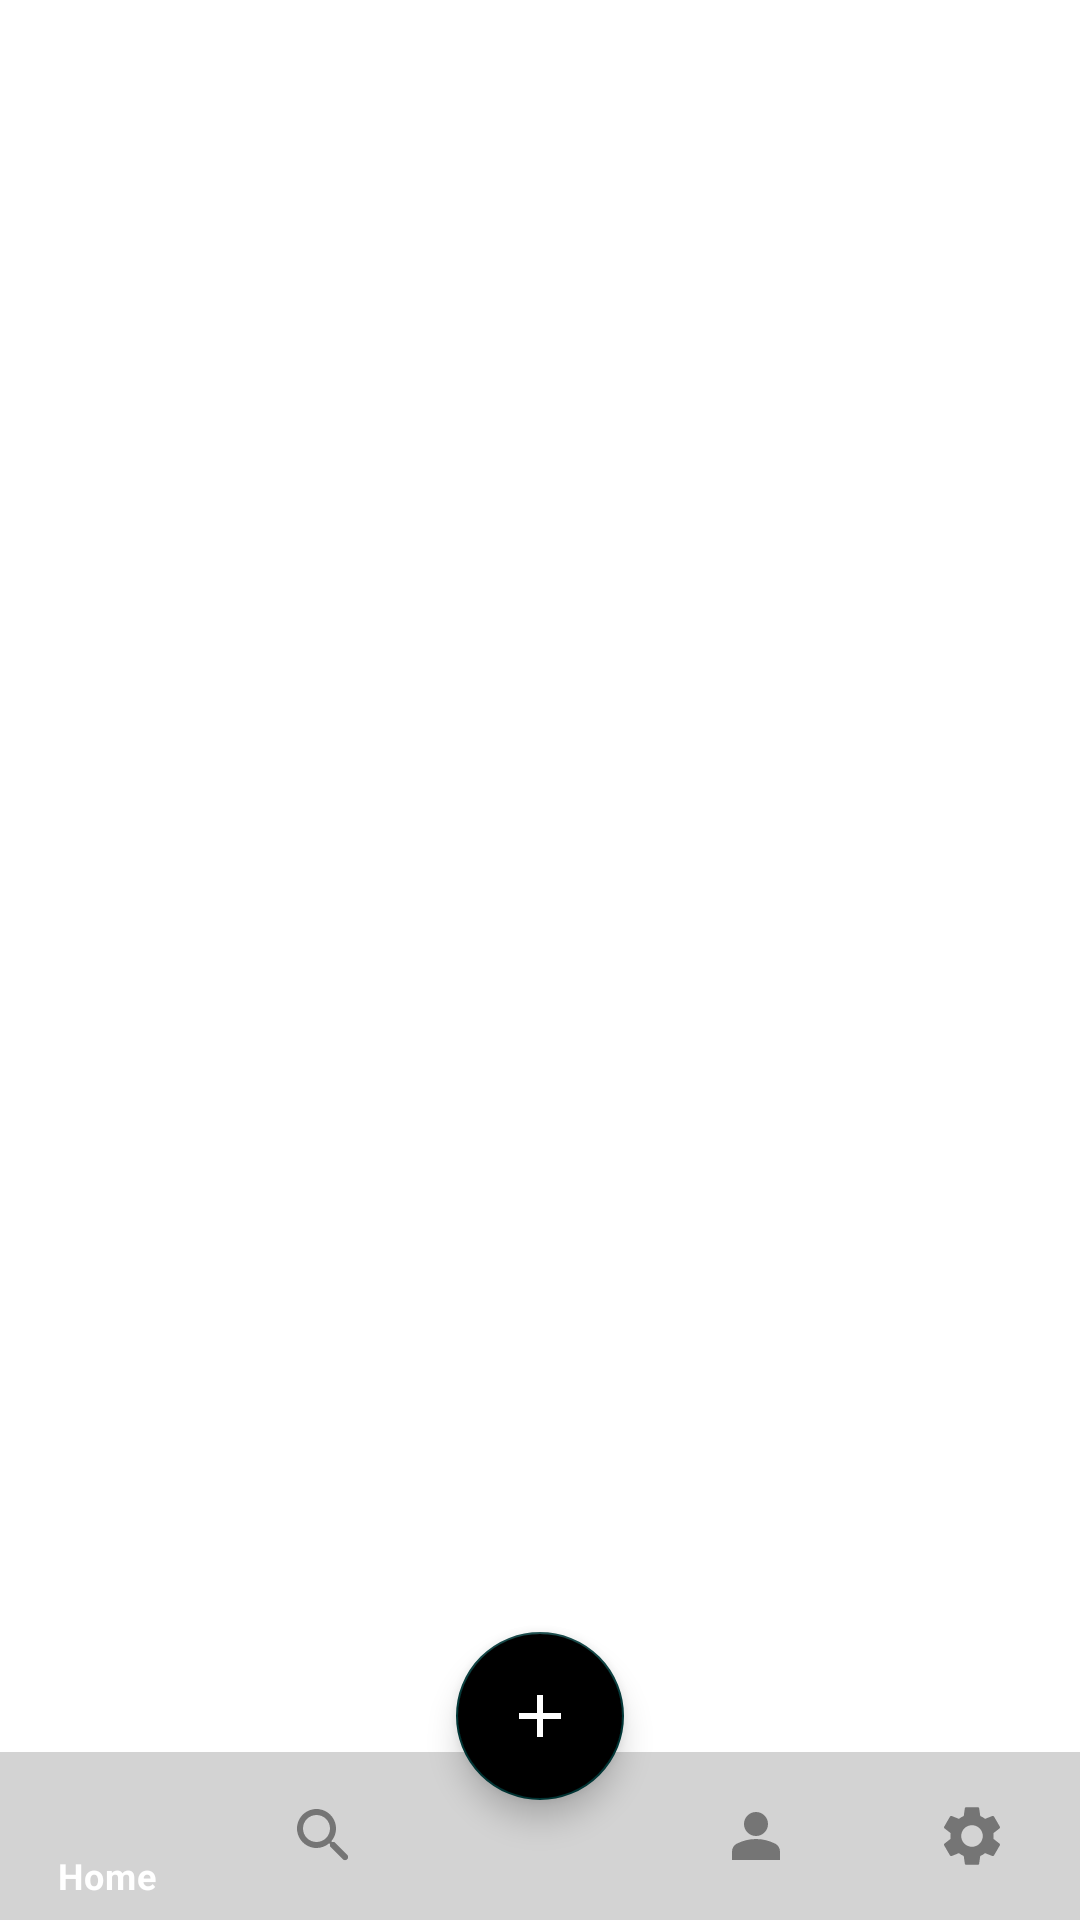

Icon click points for this 1080px x 1920px phone screenshot, format (x,y):
add: (540,1716)
